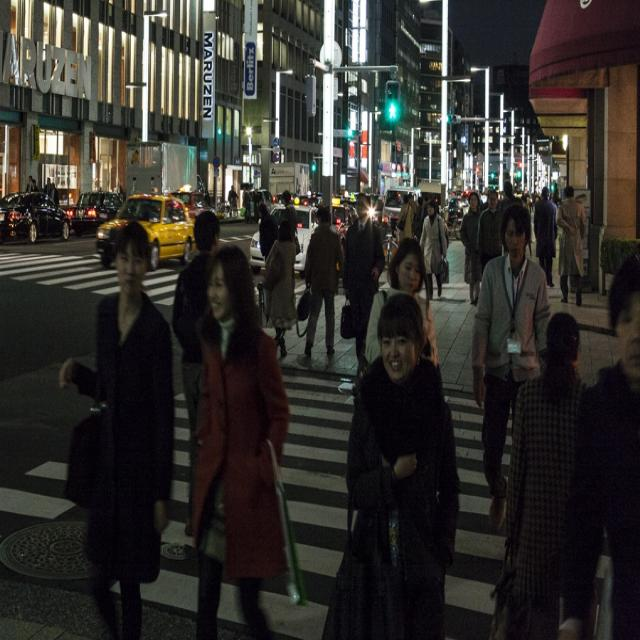body: (53, 218, 175, 639), (180, 242, 304, 639), (321, 291, 458, 640), (490, 311, 590, 640), (555, 248, 639, 639), (469, 202, 554, 543), (169, 209, 223, 548), (364, 234, 440, 370), (294, 204, 344, 362), (341, 191, 387, 359), (260, 218, 299, 358), (555, 185, 587, 307), (418, 197, 450, 302), (531, 182, 558, 289), (458, 191, 483, 306), (476, 188, 502, 278), (280, 189, 302, 289), (226, 183, 272, 222), (20, 174, 60, 207), (518, 182, 558, 215), (395, 194, 413, 254), (498, 179, 524, 210)
